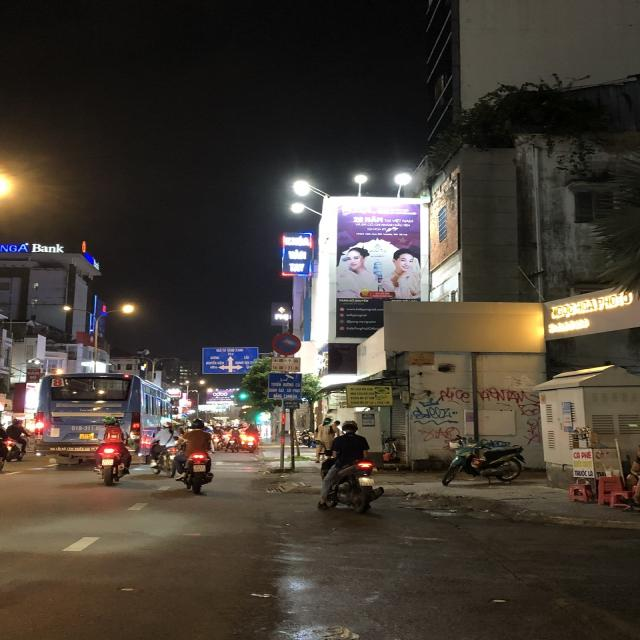Bien bao cam dung xe va do xe: (268, 332, 308, 356)
